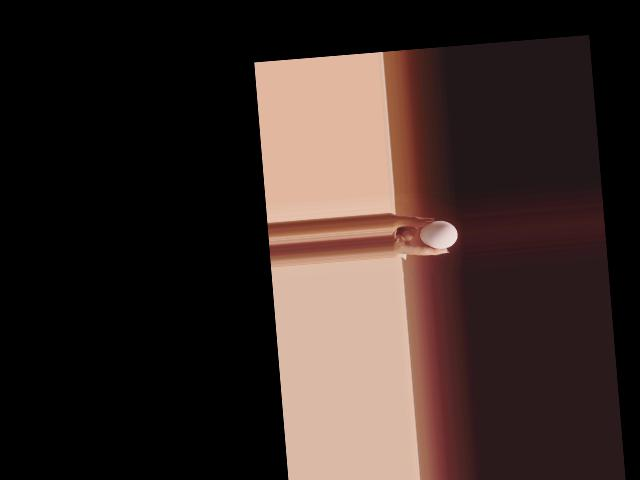egg: (418, 218, 458, 250)
